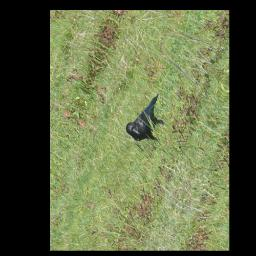Crow: (124, 82, 176, 153)
